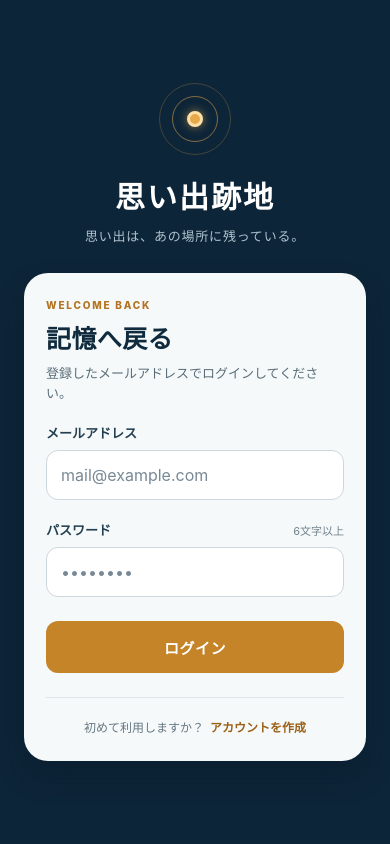
Test: <AuthScreen /> › 不正な表示名「 なおき」では登録しない
The image size is (390, 844).
Click the button "アカウントを作成" at (258, 726), box [210,718,306,735]
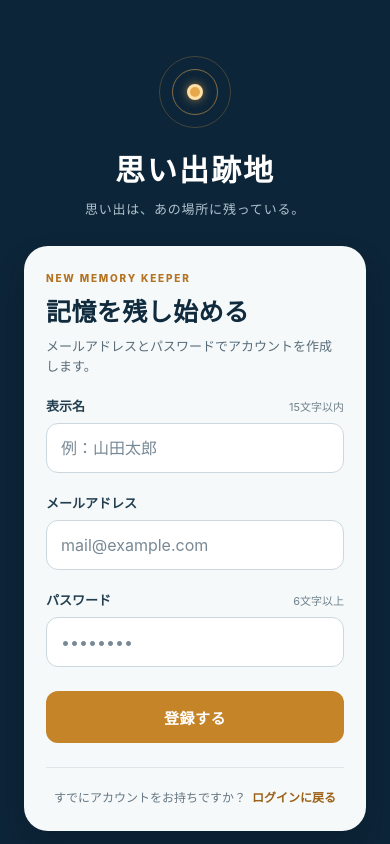
Type " なおき" into the field named "表示名" at (195, 448), box [46,423,344,473]
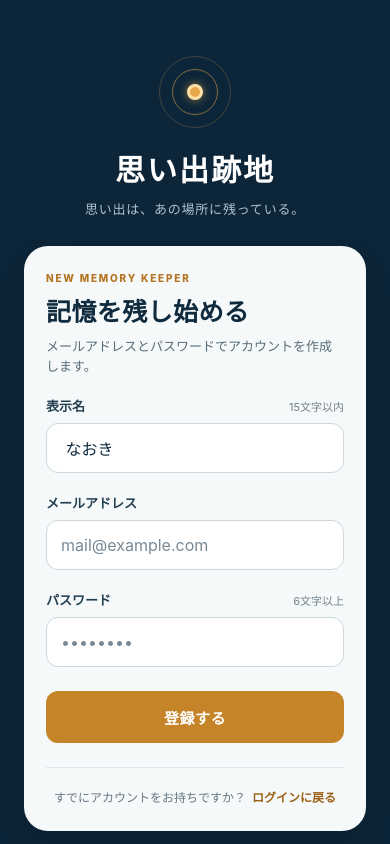
Type "new@example.com" into the field named "メールアドレス" at (195, 545), box [46,520,344,570]
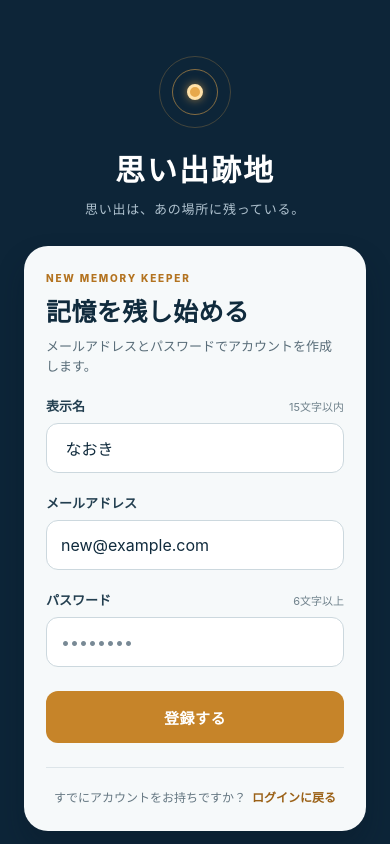
Type "secret1" into the password field named "パスワード" at (195, 642), box [46,617,344,667]
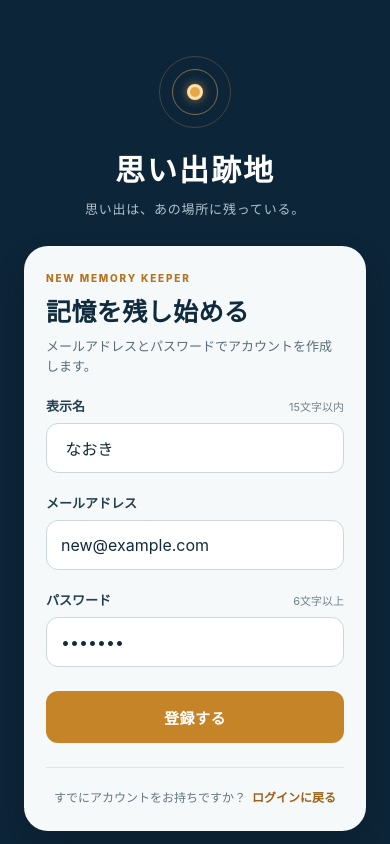
Click the button "登録する" at (195, 717), box [46,691,344,743]
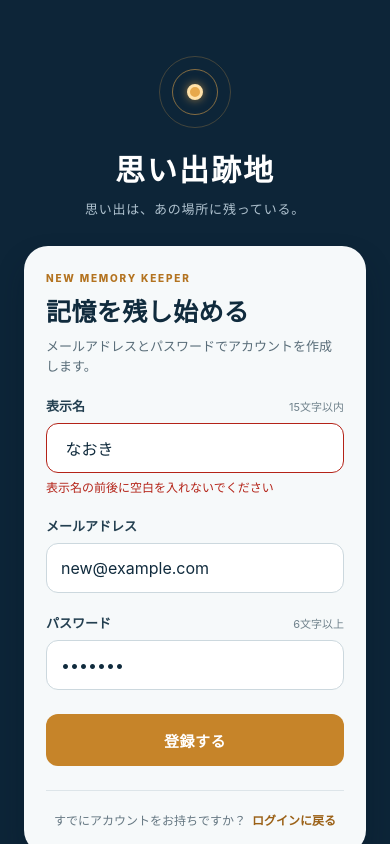
Now the text "表示名の前後に空白を入れないでください" is shown, box [46,480,274,495]
